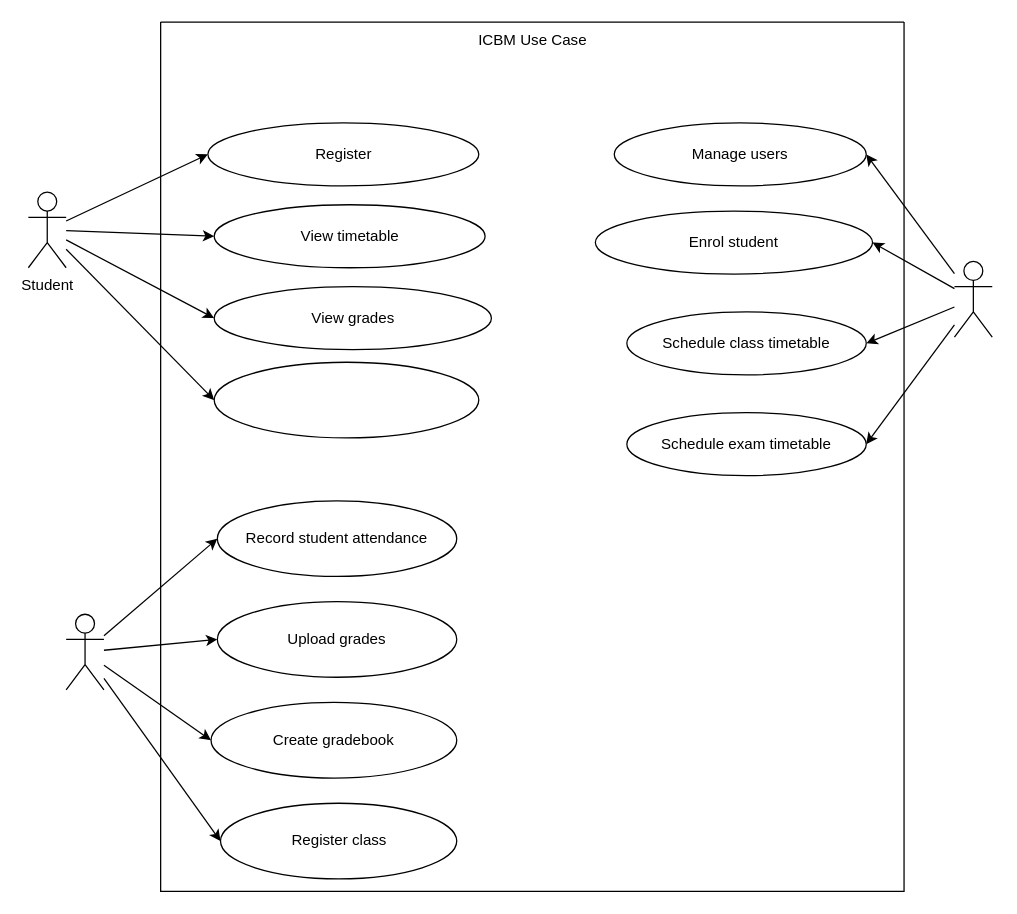
This 1017x914 diagram has some shape labels left out. Each missing label, with the centre of its shape:
"Admin" belongs at (972,298).
"Download transcript" belongs at (346,399).
"Lecture" belongs at (84,651).
